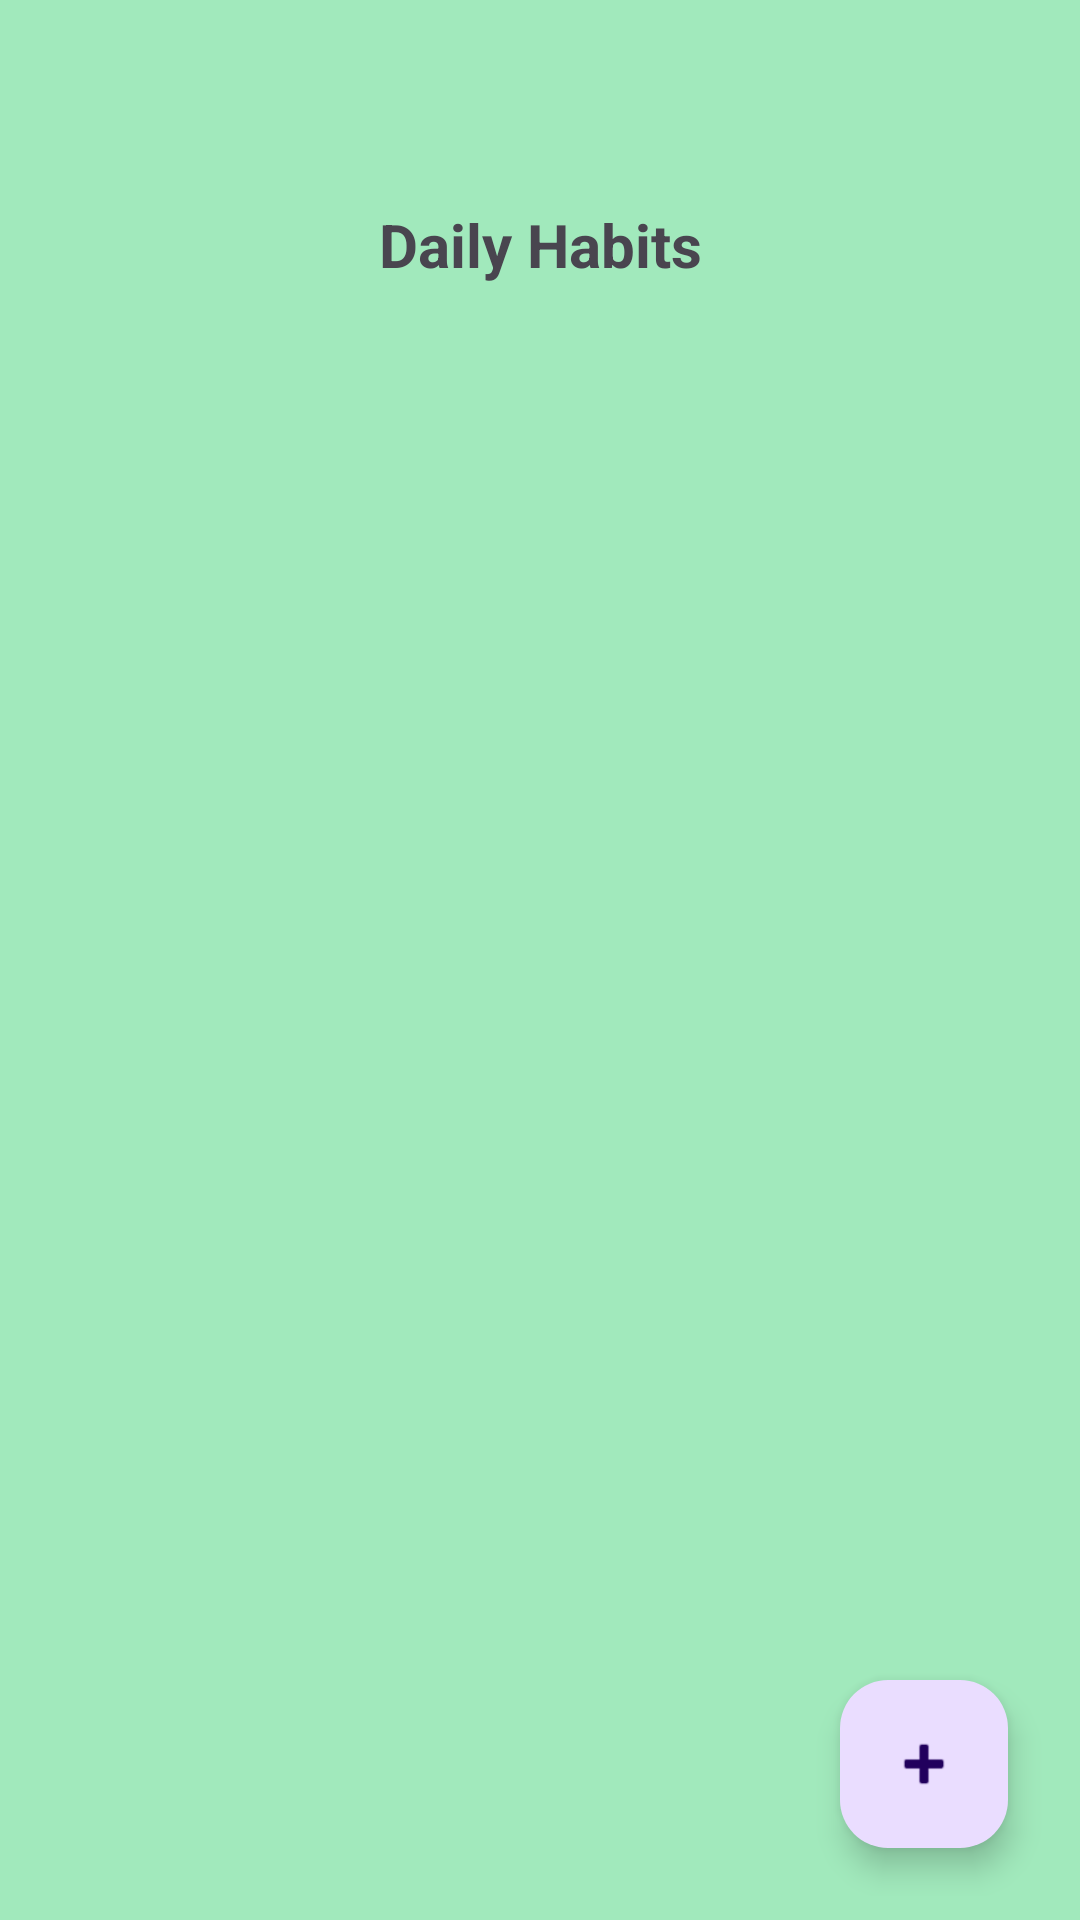

Icons on this 1080px×1920px Android screen, each with its box as (x1, y1, x2, y2):
Add Habit: (840, 1680, 1008, 1848)
